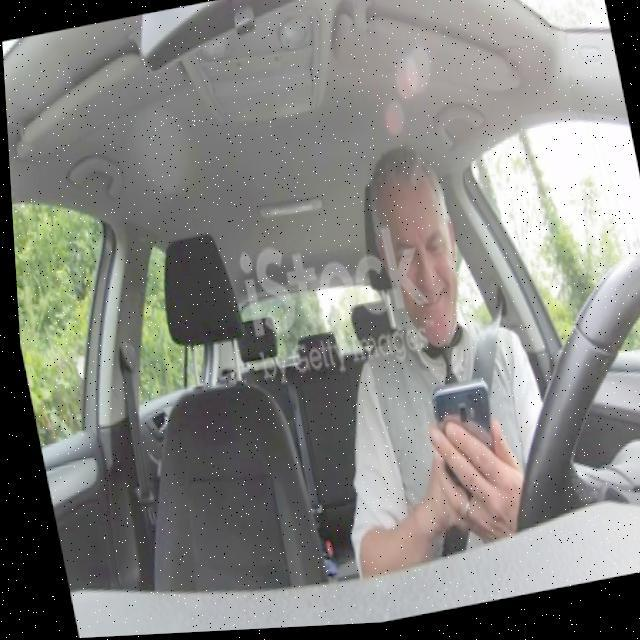PhoneCall: (424, 381, 504, 512)
